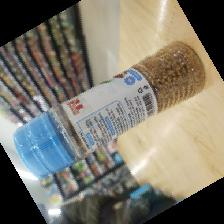TayNinh_blue: (10, 41, 206, 177)
